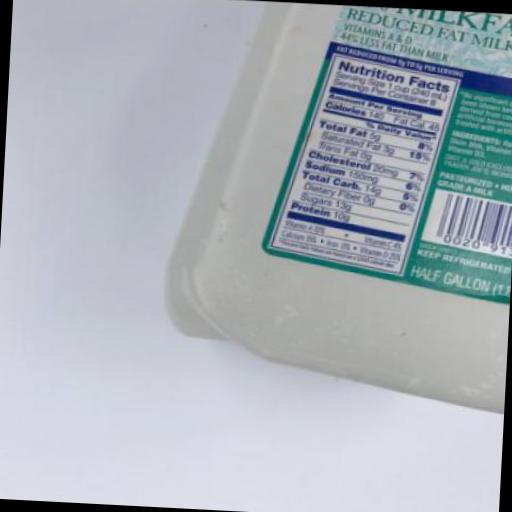plastic: (159, 0, 512, 414)
